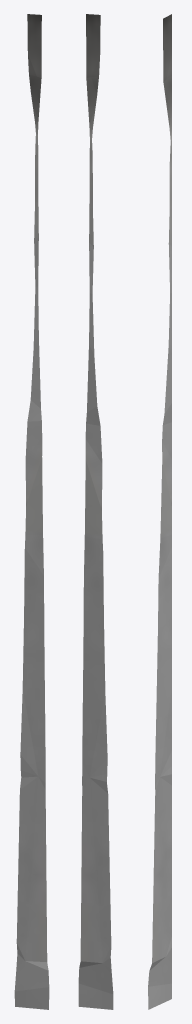
3 views of the same model, side by side, from view 1: azimuth 30°, elevation 25°; view 2: azimuth 210°, elevation 25°; view 3: azimuth 270°, elevation 25° (orthographic).
Bounding box in the file's own units: 0.02 × 0.8374 × 0.0183.
1 material, 1 textured.
